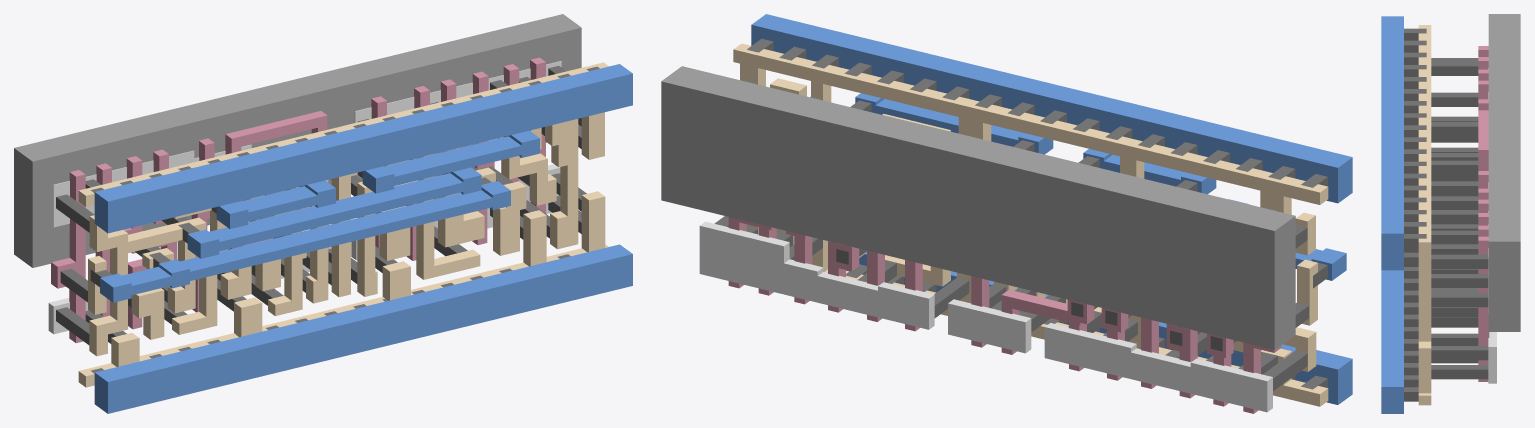
Rendered from sky130_fd_sc_hd__mux4_2.gds.gltf.
3 views of the same model, side by side, from view 1: azimuth 30°, elevation 25°; view 2: azimuth 150°, elevation 25°; view 3: azimuth 270°, elevation 25° (orthographic). The views are drawn at different scales.
Visible parts, largest first — view 1: sky130_fd_sc_hd__mux4_2_met1, sky130_fd_sc_hd__mux4_2_li1, sky130_fd_sc_hd__mux4_2_nwell, sky130_fd_sc_hd__mux4_2_poly, sky130_fd_sc_hd__mux4_2_licon, sky130_fd_sc_hd__mux4_2_diff, sky130_fd_sc_hd__mux4_2_mcon; view 2: sky130_fd_sc_hd__mux4_2_nwell, sky130_fd_sc_hd__mux4_2_met1, sky130_fd_sc_hd__mux4_2_diff, sky130_fd_sc_hd__mux4_2_li1, sky130_fd_sc_hd__mux4_2_poly, sky130_fd_sc_hd__mux4_2_mcon, sky130_fd_sc_hd__mux4_2_licon; view 3: sky130_fd_sc_hd__mux4_2_licon, sky130_fd_sc_hd__mux4_2_nwell, sky130_fd_sc_hd__mux4_2_met1, sky130_fd_sc_hd__mux4_2_mcon, sky130_fd_sc_hd__mux4_2_li1, sky130_fd_sc_hd__mux4_2_poly, sky130_fd_sc_hd__mux4_2_diff.
Part boxes in pixels (x1=…): sky130_fd_sc_hd__mux4_2_met1: x1=94, y1=64, x2=632, y2=413; sky130_fd_sc_hd__mux4_2_li1: x1=78, y1=62, x2=608, y2=387; sky130_fd_sc_hd__mux4_2_nwell: x1=14, y1=14, x2=581, y2=267; sky130_fd_sc_hd__mux4_2_poly: x1=51, y1=57, x2=545, y2=343; sky130_fd_sc_hd__mux4_2_licon: x1=56, y1=66, x2=586, y2=344; sky130_fd_sc_hd__mux4_2_diff: x1=48, y1=61, x2=561, y2=334; sky130_fd_sc_hd__mux4_2_mcon: x1=90, y1=66, x2=599, y2=373; sky130_fd_sc_hd__mux4_2_nwell: x1=661, y1=66, x2=1295, y2=349; sky130_fd_sc_hd__mux4_2_met1: x1=751, y1=14, x2=1352, y2=404; sky130_fd_sc_hd__mux4_2_diff: x1=699, y1=221, x2=1272, y2=412; sky130_fd_sc_hd__mux4_2_li1: x1=733, y1=43, x2=1328, y2=406; sky130_fd_sc_hd__mux4_2_poly: x1=728, y1=217, x2=1281, y2=413; sky130_fd_sc_hd__mux4_2_mcon: x1=747, y1=38, x2=1327, y2=389; sky130_fd_sc_hd__mux4_2_licon: x1=714, y1=80, x2=1308, y2=391; sky130_fd_sc_hd__mux4_2_licon: x1=1431, y1=58, x2=1488, y2=379; sky130_fd_sc_hd__mux4_2_nwell: x1=1488, y1=14, x2=1520, y2=331; sky130_fd_sc_hd__mux4_2_met1: x1=1381, y1=16, x2=1403, y2=413; sky130_fd_sc_hd__mux4_2_mcon: x1=1404, y1=28, x2=1426, y2=401; sky130_fd_sc_hd__mux4_2_li1: x1=1418, y1=25, x2=1431, y2=405; sky130_fd_sc_hd__mux4_2_poly: x1=1478, y1=46, x2=1489, y2=381; sky130_fd_sc_hd__mux4_2_diff: x1=1488, y1=68, x2=1496, y2=383.
Bounding box in the file's own units: 8.66 × 3.2 × 2.24.
